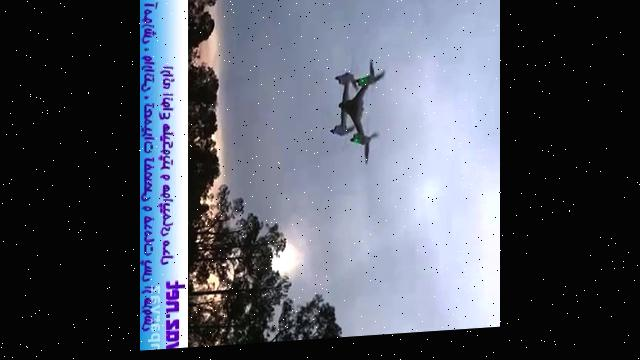drone: (326, 59, 392, 175)
